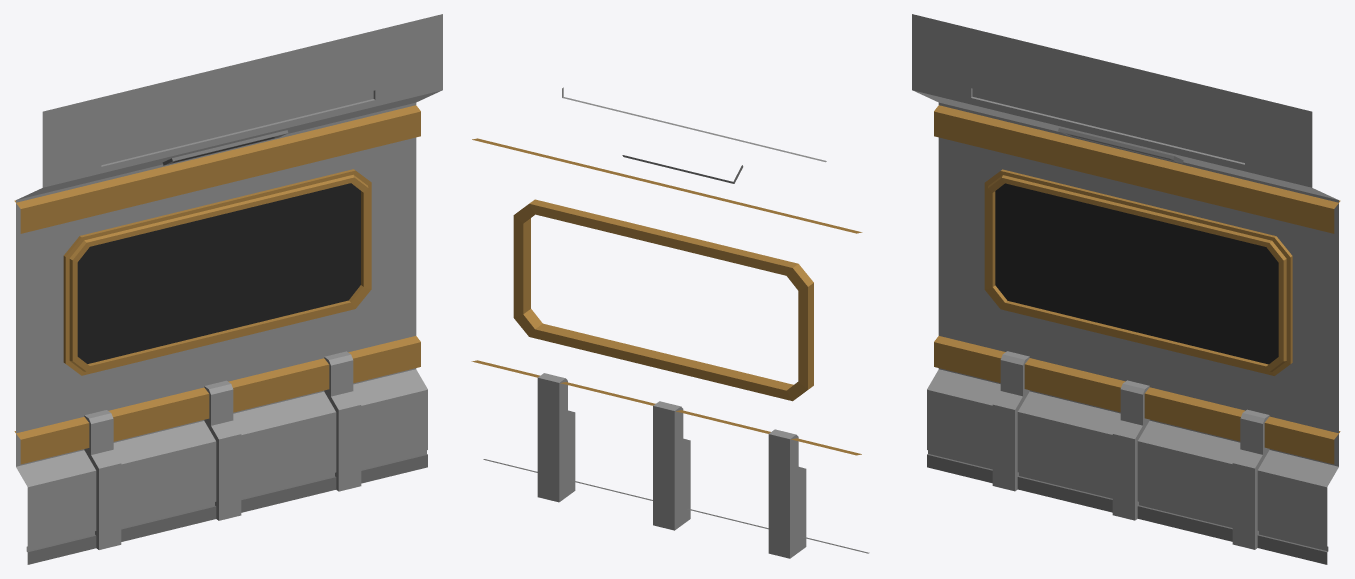
Rendered from Window_Wall_SideB.glb.
3 renders of one model, left to right at view 1: azimuth 30°, elevation 25°; view 2: azimuth 150°, elevation 25°; view 3: azimuth 330°, elevation 25°, orthographic. The views are drawn at different scales.
Parts seen in each view (by area): view 1: Window_Wall_SideB_Plane.013; view 2: Window_Wall_SideB_Plane.013; view 3: Window_Wall_SideB_Plane.013.
Part boxes in pixels (x1=…): Window_Wall_SideB_Plane.013: x1=14, y1=14, x2=442, y2=564; Window_Wall_SideB_Plane.013: x1=471, y1=87, x2=869, y2=558; Window_Wall_SideB_Plane.013: x1=912, y1=14, x2=1340, y2=564.
Size of the model in its own units: 4 by 4.43 by 0.5355.
